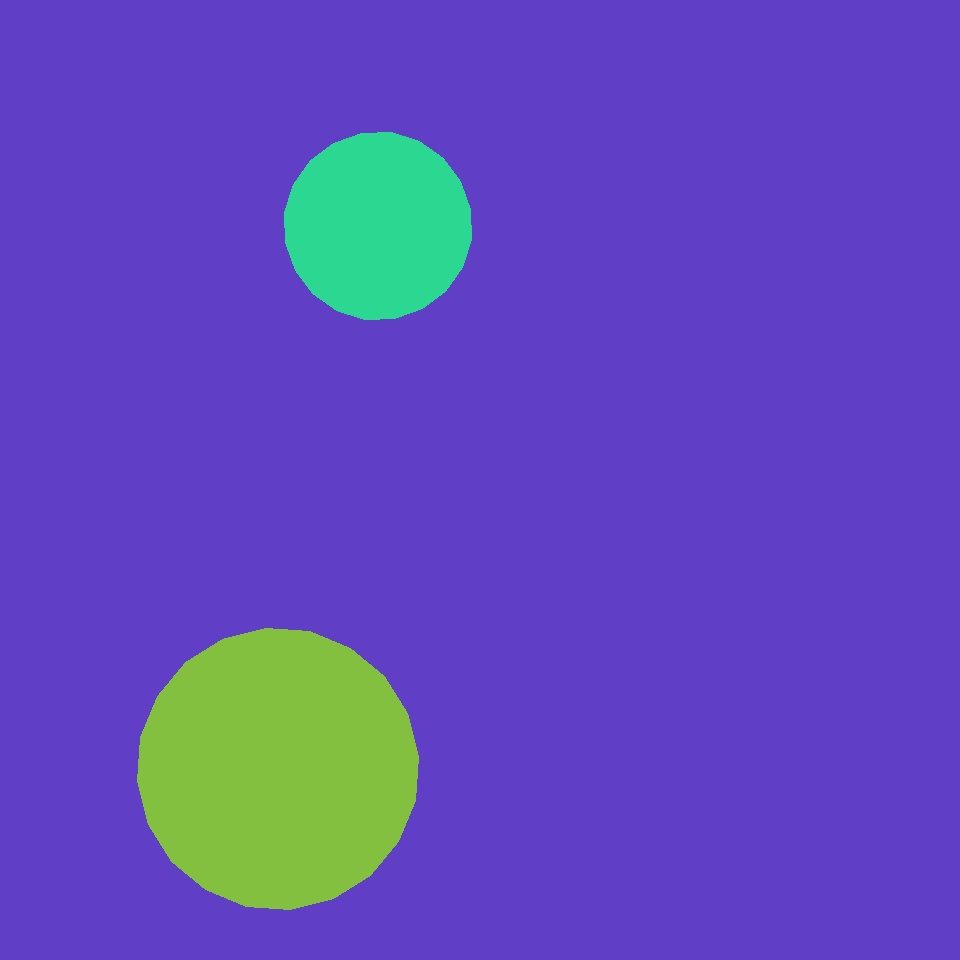circle: (68, 589, 324, 866)
square: (775, 57, 900, 181)
triangle: (231, 276, 560, 604), (249, 640, 531, 923), (138, 628, 419, 910), (284, 132, 472, 320)
